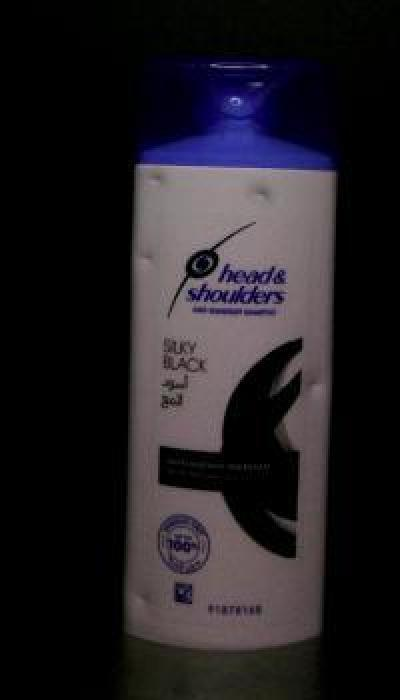dent_unacc: (129, 571, 175, 625), (136, 233, 164, 289), (239, 177, 285, 209), (134, 163, 176, 195), (299, 369, 329, 405)
